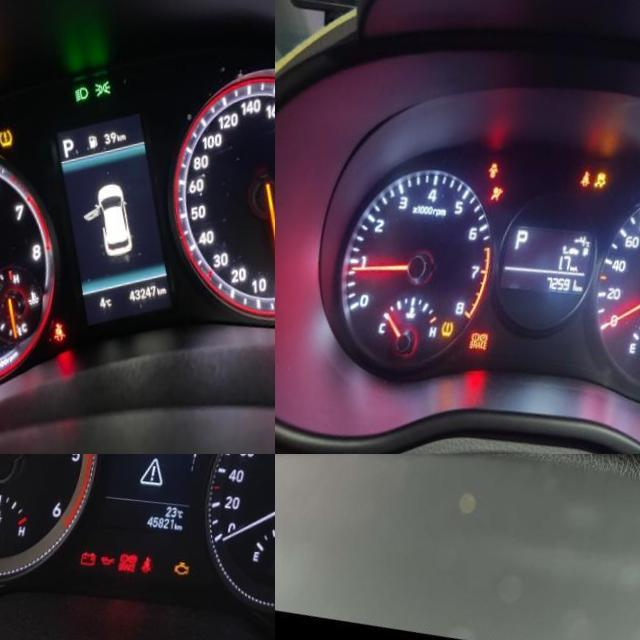Doors: (487, 166, 499, 185)
Low beam: (71, 91, 88, 109)
SideLamp: (92, 85, 109, 104)
